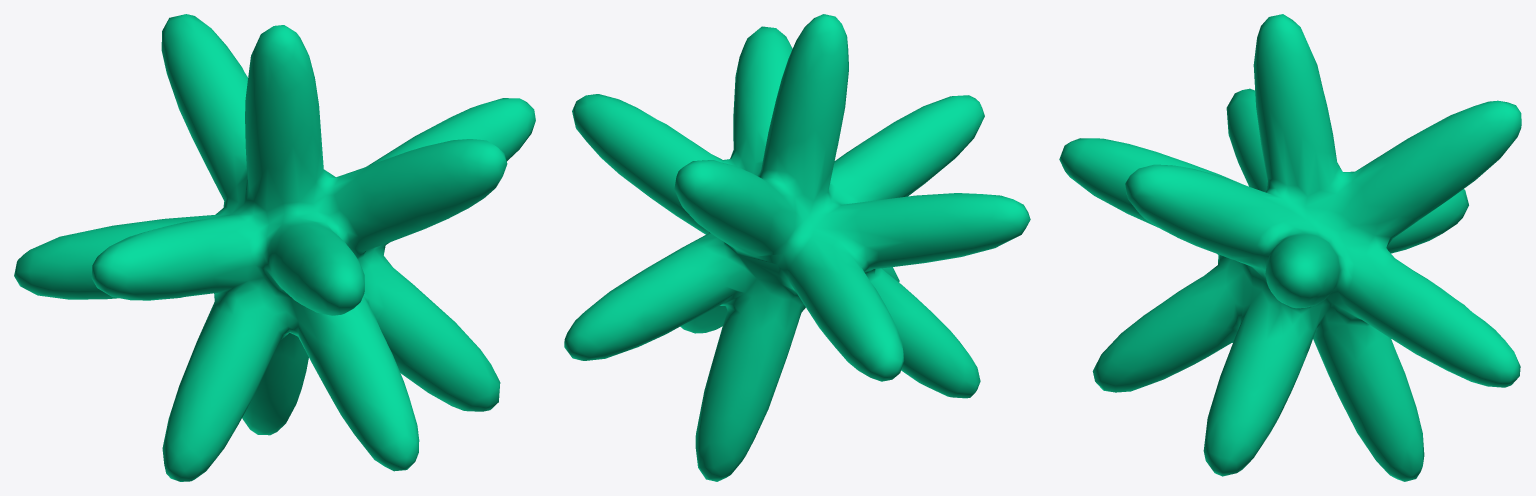
File: spikes_low.glb
3 renders of one model, left to right at view 1: azimuth 30°, elevation 25°; view 2: azimuth 150°, elevation 25°; view 3: azimuth 270°, elevation 25°, orthographic. The views are drawn at different scales.
Parts seen in each view (by area): view 1: spikes_high.001; view 2: spikes_high.001; view 3: spikes_high.001.
Boxes of the visible parts, x1,y1,x2,y2 form: spikes_high.001: (14, 14, 535, 481); spikes_high.001: (564, 14, 1030, 481); spikes_high.001: (1059, 14, 1521, 481).
Size of the model in its own units: 1.25 by 1.2 by 1.14.
